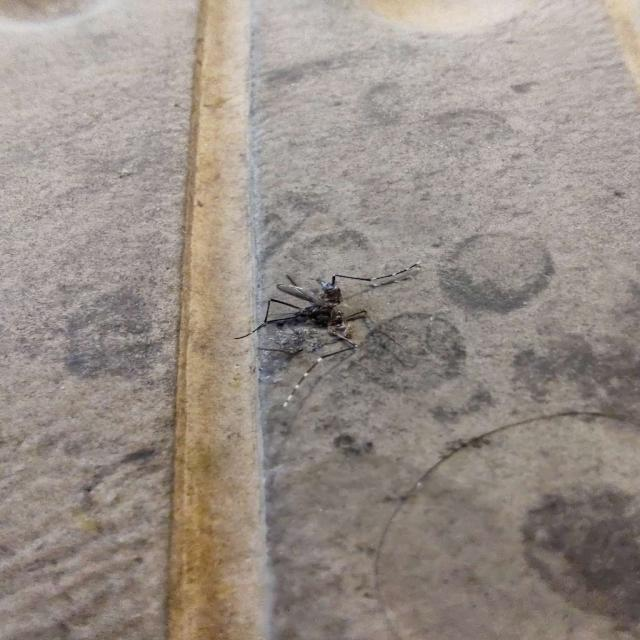aegypti: (223, 250, 438, 410)
